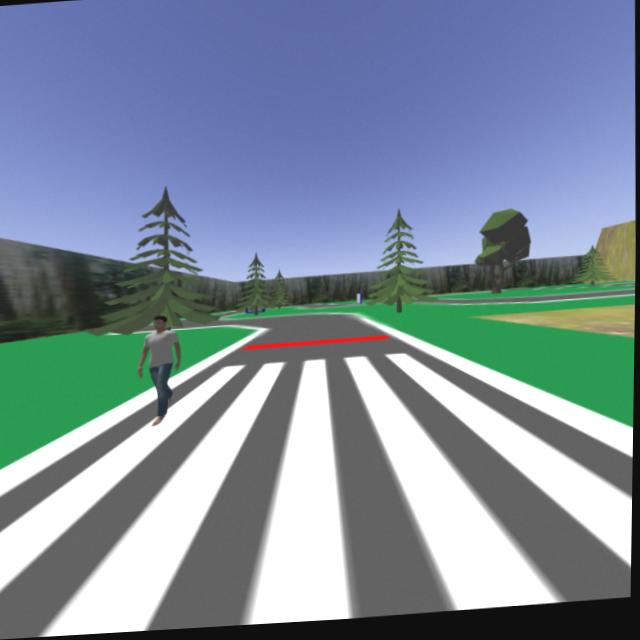pedestrian: (137, 310, 187, 429)
